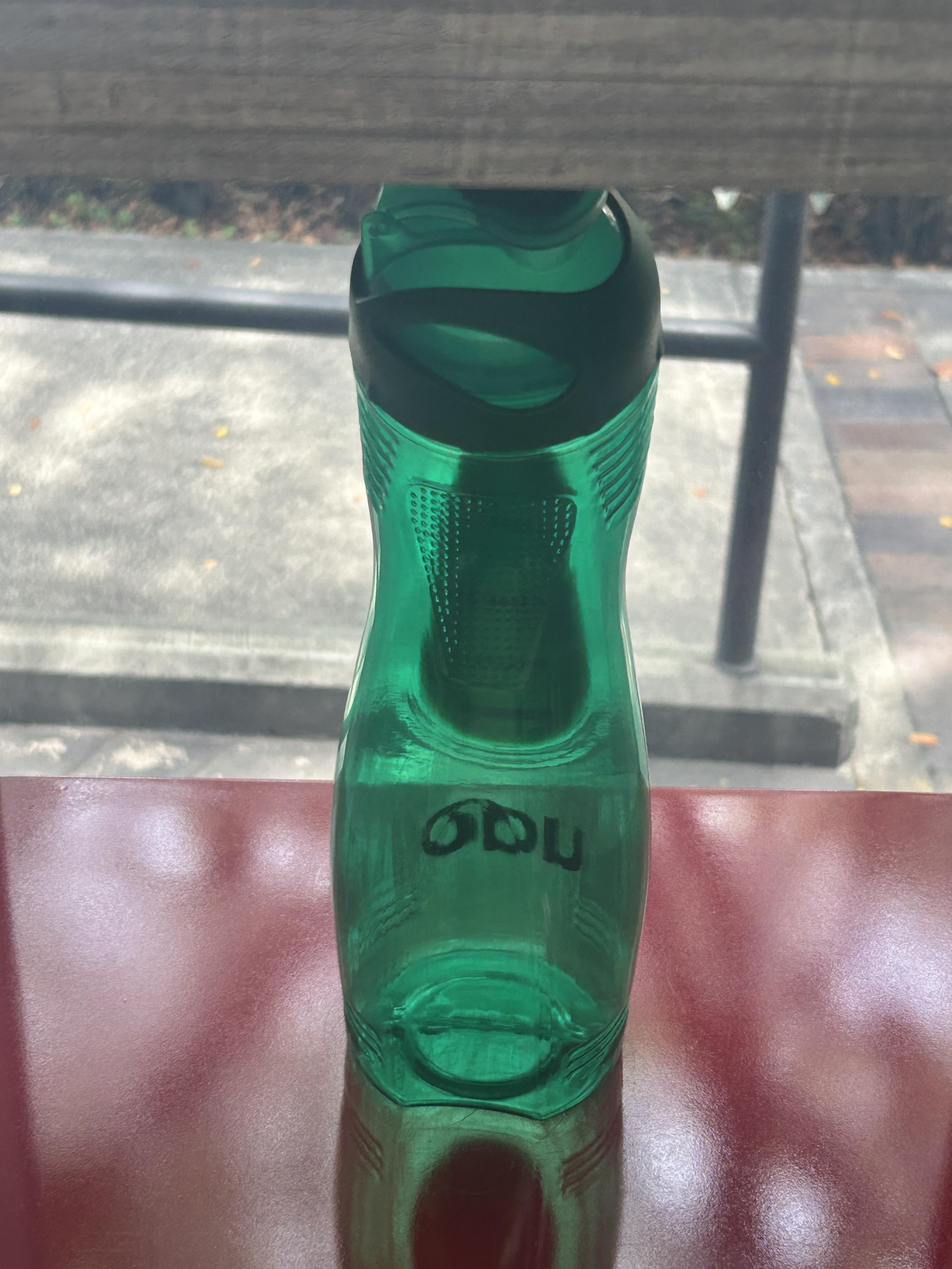termo: (333, 187, 662, 1118)
